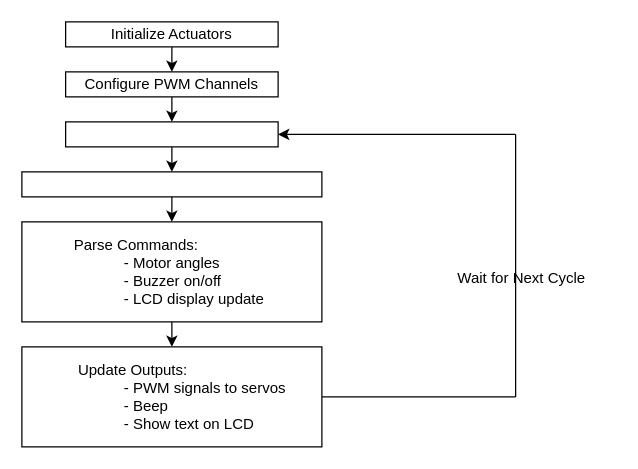
The diagram is 638 pixels wide and 469 high, and some of its shapes have lost their labels. The shapes that lost their labels are listed below. From the top down, each one's centre as x and y in pixels, then its label:
At pixel 171 134: "Enter Actuators Loop".
At pixel 171 184: "Wait for Commands from System Control".
